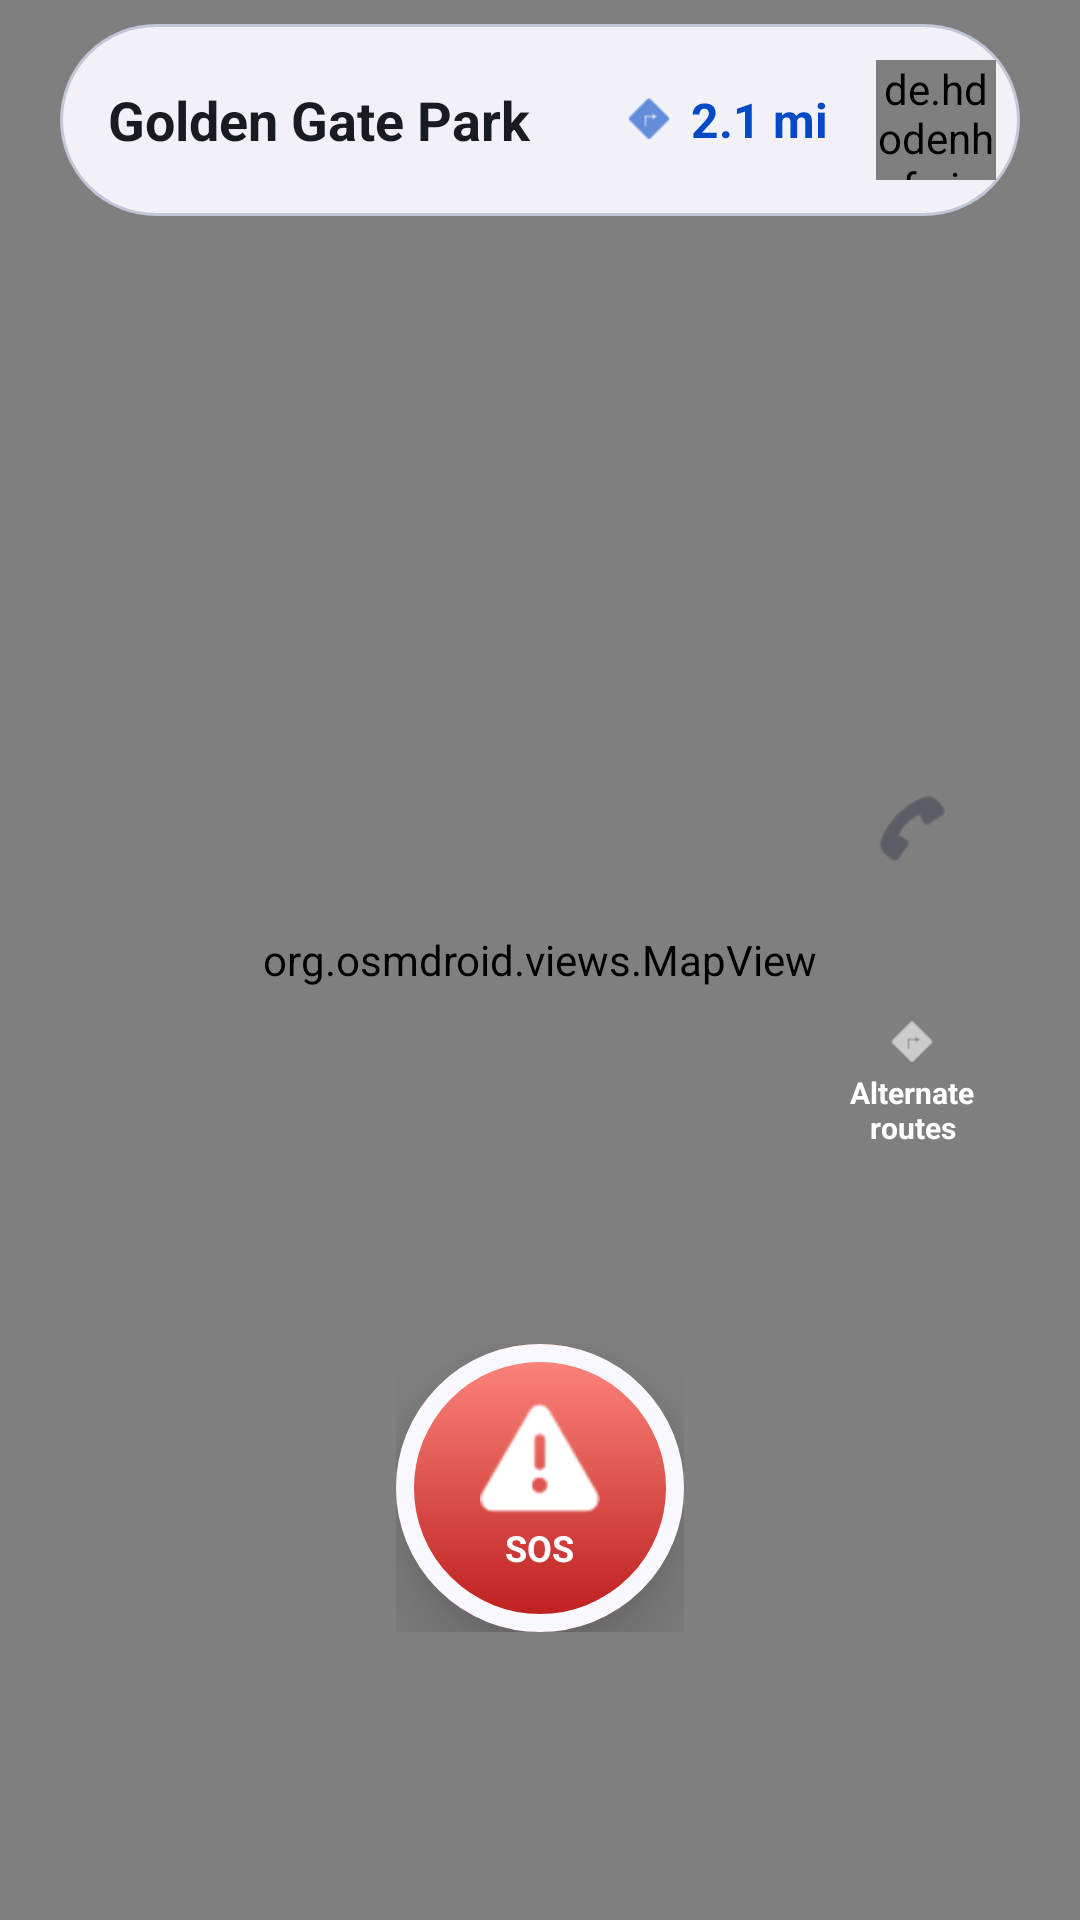

Icons on this 1080px×1920px Android screen, each with the point to tap as (x=x, y=y):
Emergency Call: (x=912, y=828)
